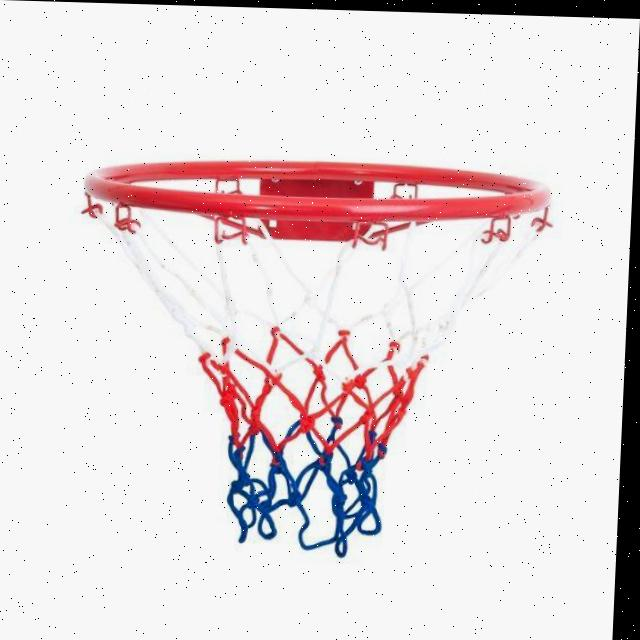hoop: (43, 120, 603, 575)
